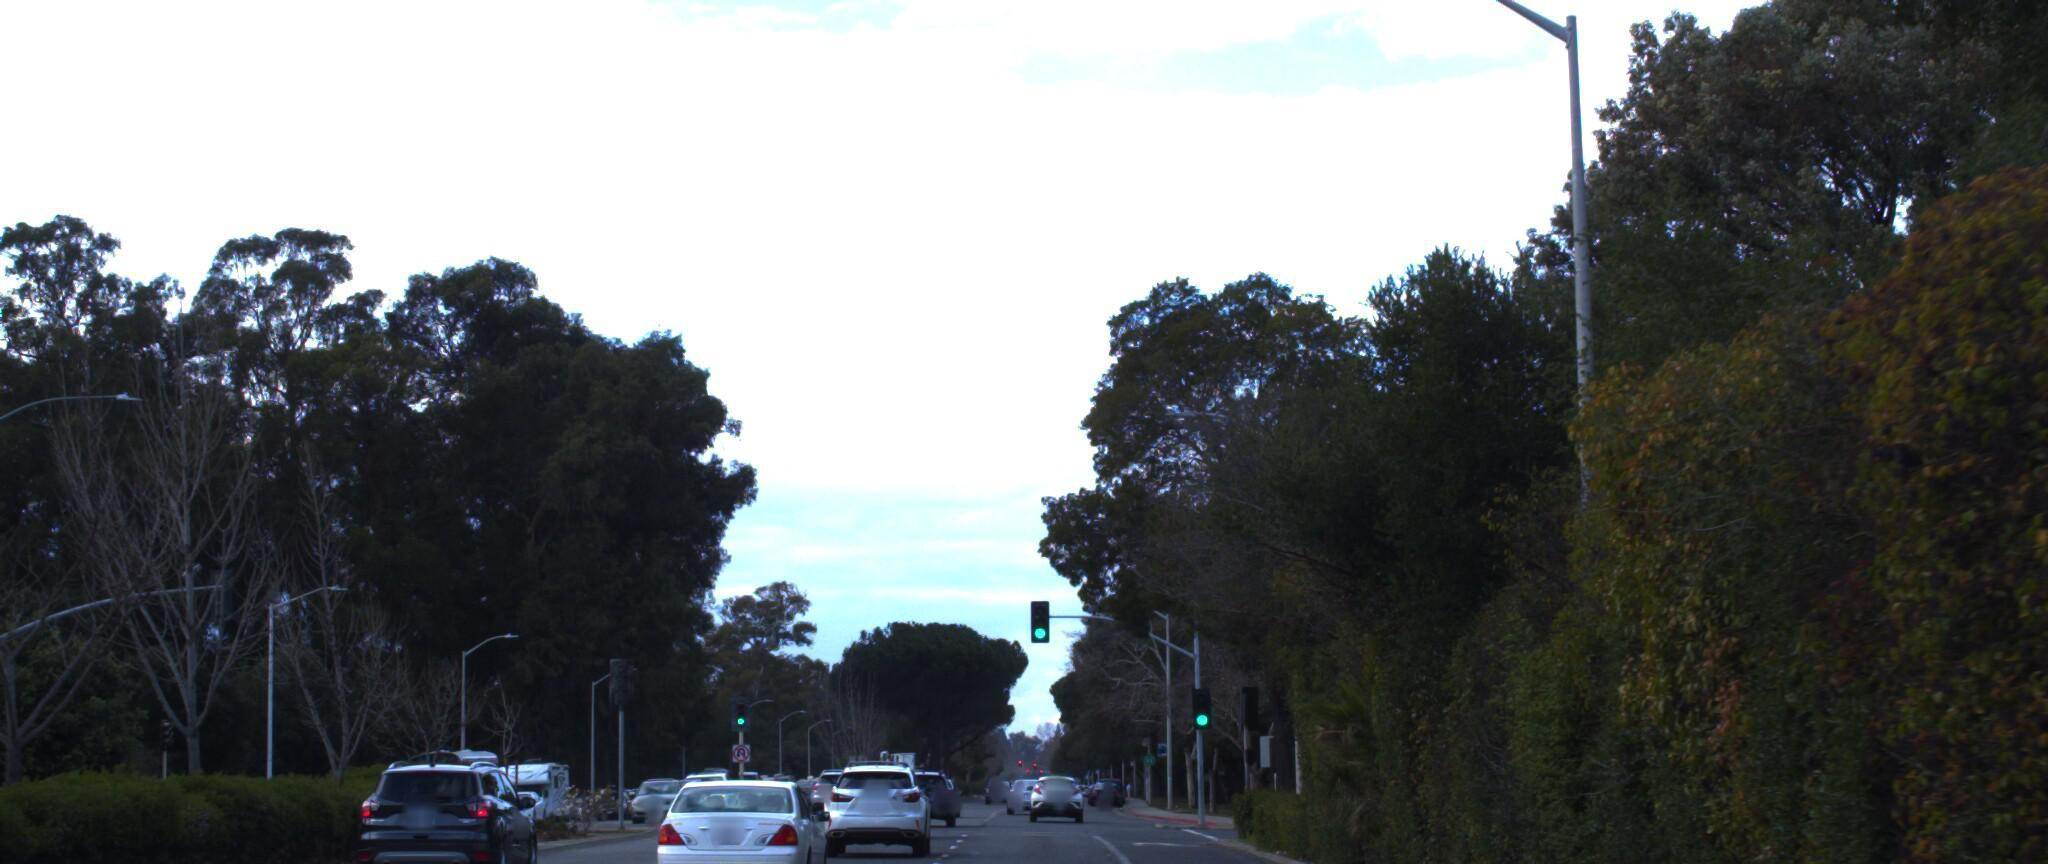car: (362, 743, 558, 864), (649, 739, 835, 864), (819, 754, 933, 851)
